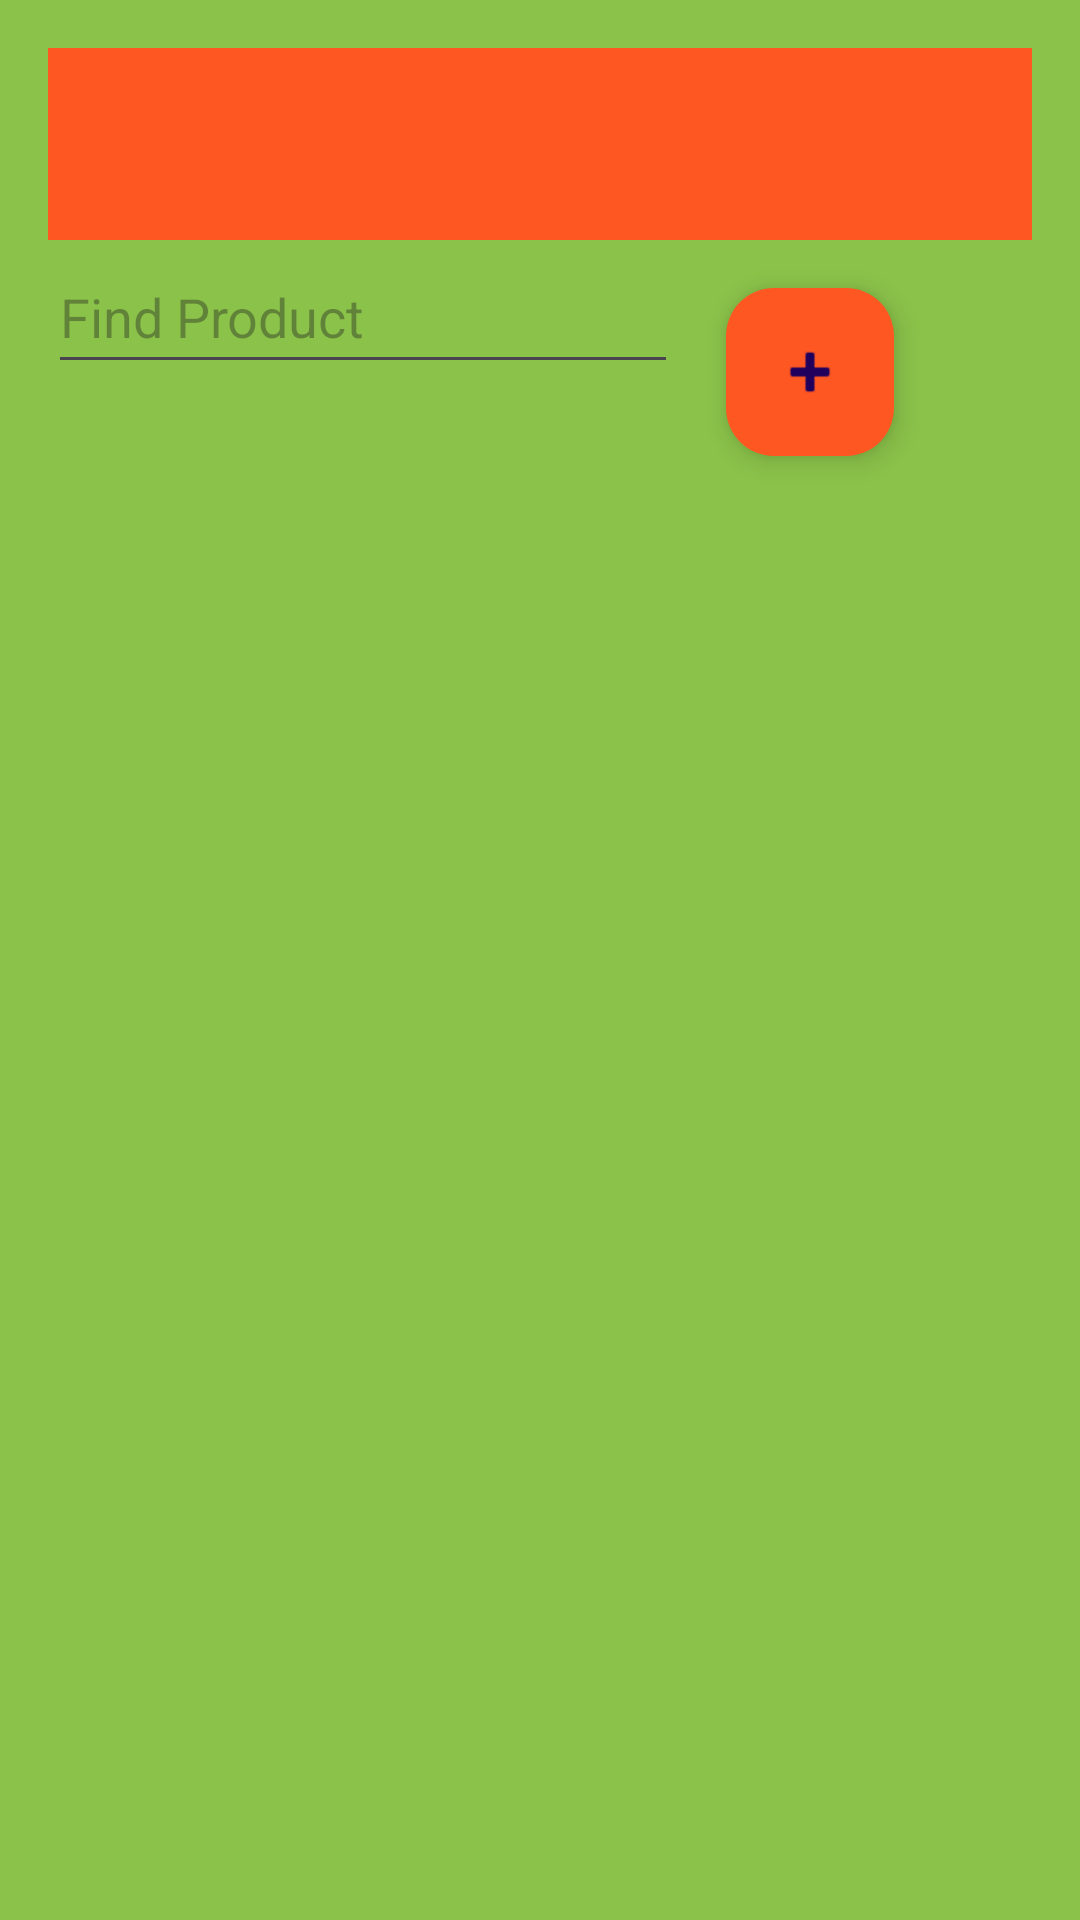

Icons on this 1080 x 1920 Android screen, each with the point to tap as point (x, y):
Add Product: point (810, 372)
